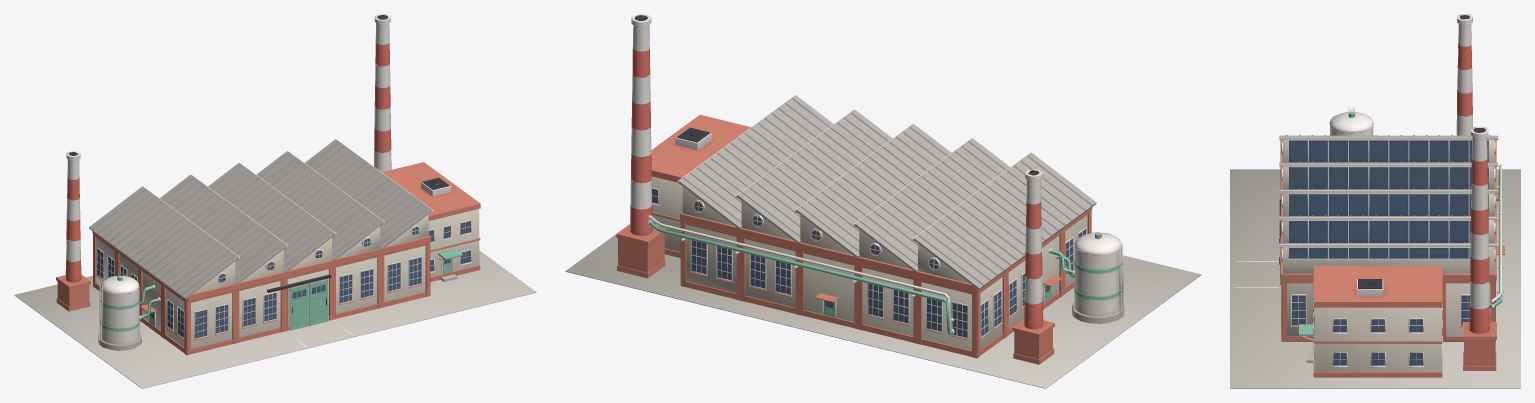
File: factory.glb
3 renders of one model, left to right at view 1: azimuth 30°, elevation 25°; view 2: azimuth 150°, elevation 25°; view 3: azimuth 270°, elevation 25°, orthographic. The views are drawn at different scales.
Parts seen in each view (by area): view 1: factory_body, factory_facade, factory_yard_slab, factory_shell; view 2: factory_body, factory_facade, factory_yard_slab, factory_shell; view 3: factory_body, factory_yard_slab, factory_facade, factory_shell.
Boxes of the visible parts, bbox=[...] form: factory_body: bbox=[56, 14, 433, 350]; factory_facade: bbox=[92, 162, 480, 355]; factory_yard_slab: bbox=[14, 250, 536, 388]; factory_shell: bbox=[96, 209, 479, 349]; factory_body: bbox=[616, 14, 1124, 364]; factory_facade: bbox=[651, 114, 1092, 358]; factory_yard_slab: bbox=[565, 225, 1201, 388]; factory_shell: bbox=[651, 176, 1087, 350]; factory_body: bbox=[1279, 14, 1504, 370]; factory_yard_slab: bbox=[1230, 169, 1520, 388]; factory_facade: bbox=[1279, 140, 1504, 377]; factory_shell: bbox=[1283, 139, 1494, 371].
Bounding box in the file's own units: 49 × 24.43 × 27.5.
Materials: 5 (3 with a texture image).
